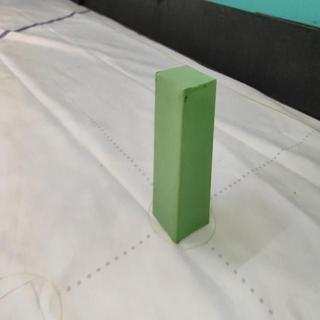greenbox: (151, 63, 218, 244)
